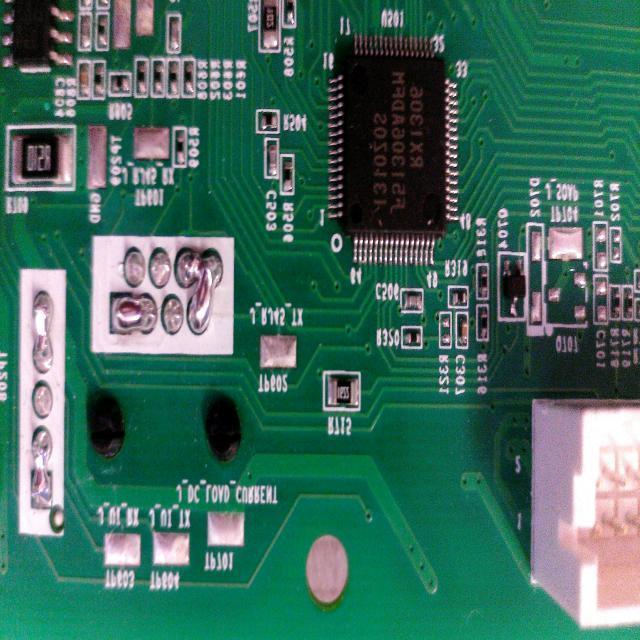Soldering bridge: (176, 245, 226, 335), (106, 291, 160, 342), (28, 424, 55, 516), (32, 289, 56, 376)
